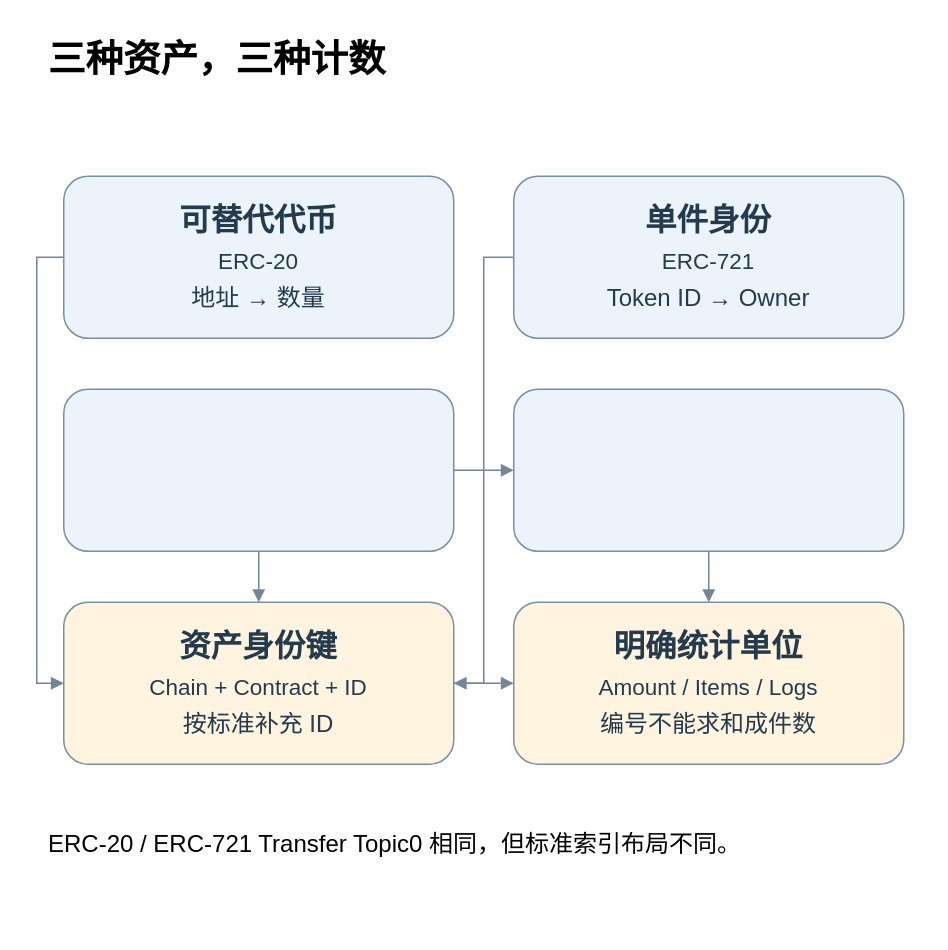
This 948x950 diagram has some shape labels left out. Each missing label, with the centre of its shape:
多资产余额 ERC-1155 地址 + ID → 数量: pixel 258 469
批量事件 TransferBatch IDs 与 Values 配对: pixel 708 469
